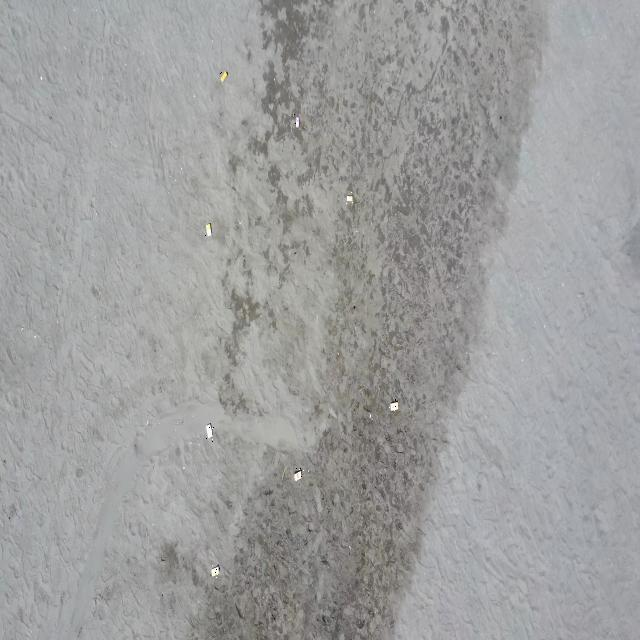Garbage: (292, 113, 299, 128), (388, 400, 397, 411), (211, 564, 220, 575), (206, 423, 212, 439), (293, 467, 300, 480), (204, 223, 211, 236), (220, 71, 227, 81), (346, 192, 352, 203)
